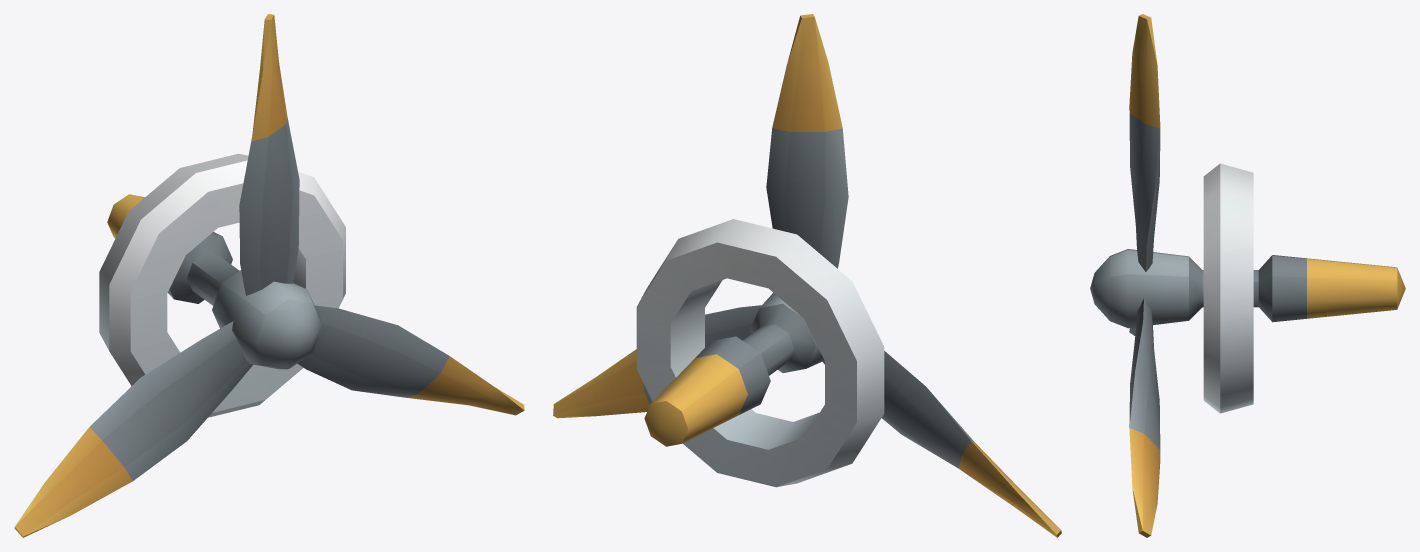
File: windturbine_tall_fan.glb
3 views of the same model, side by side, from view 1: azimuth 30°, elevation 25°; view 2: azimuth 150°, elevation 25°; view 3: azimuth 270°, elevation 25° (orthographic). The views are drawn at different scales.
Parts seen in each view (by area): view 1: windturbine_tall_fan_Cylinder.2739; view 2: windturbine_tall_fan_Cylinder.2739; view 3: windturbine_tall_fan_Cylinder.2739.
Boxes of the visible parts, x1=… form: windturbine_tall_fan_Cylinder.2739: x1=14, y1=14, x2=524, y2=537; windturbine_tall_fan_Cylinder.2739: x1=553, y1=14, x2=1061, y2=537; windturbine_tall_fan_Cylinder.2739: x1=1090, y1=14, x2=1405, y2=537.
Bounding box in the file's own units: 1.67 × 1.44 × 0.9999.
Materials: 1 (1 with a texture image).
